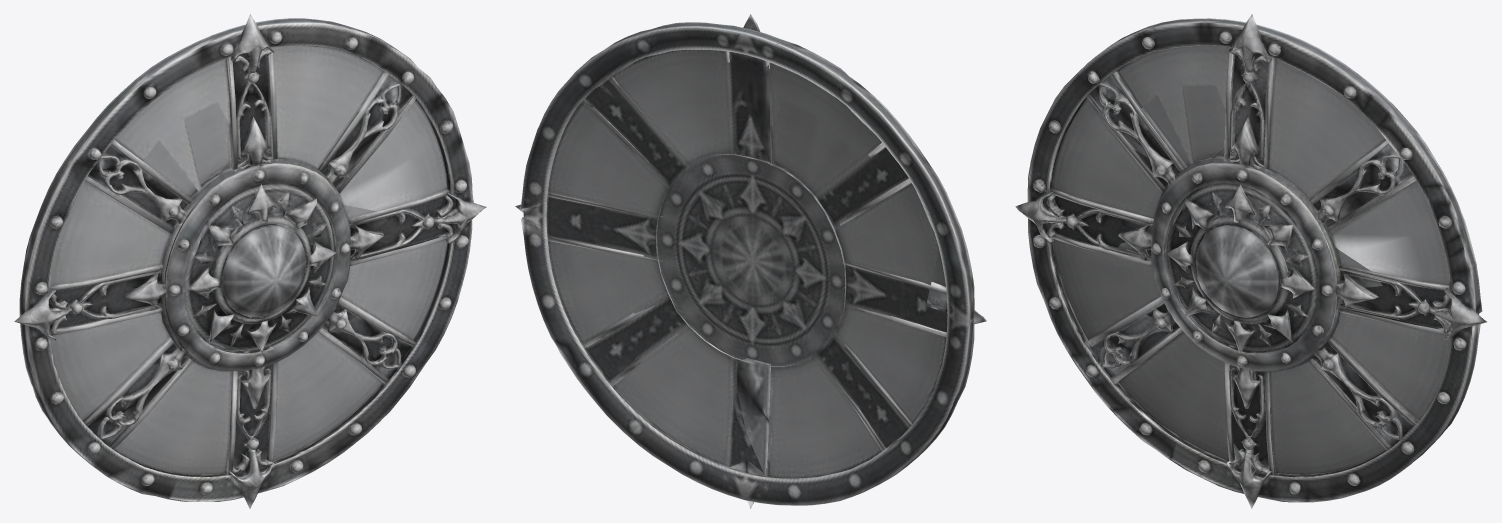
Rendered from shield-round.glb.
The picture shows the model from 3 angles, left to right: view 1: azimuth 30°, elevation 25°; view 2: azimuth 150°, elevation 25°; view 3: azimuth 330°, elevation 25°; orthographic projection.
Bounding box in the file's own units: 0.9502 × 0.9517 × 0.1143.
1 material, 1 textured.
